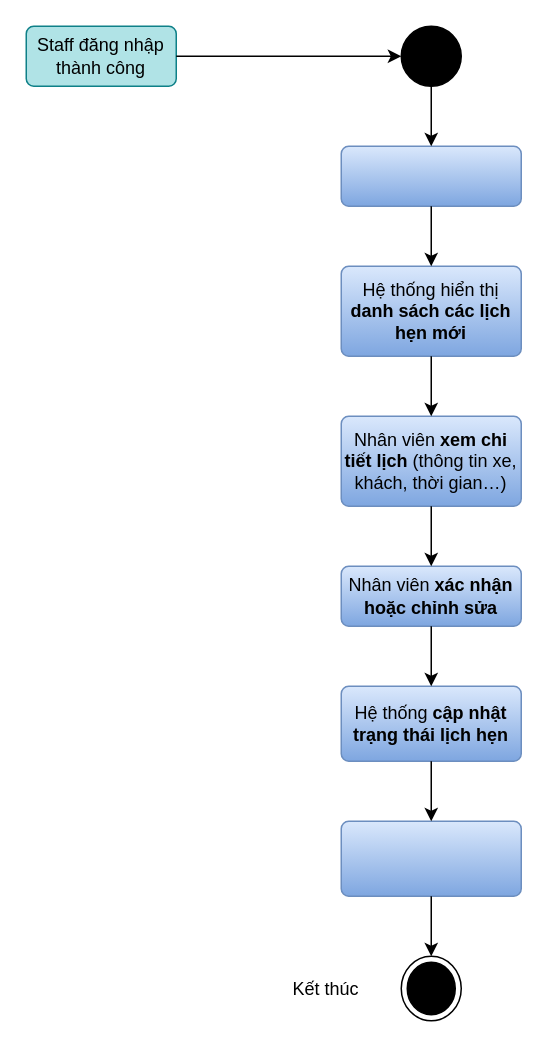
The diagram is 548 pixels wide and 1047 high, and some of its shapes have lost their labels. The box of each missing label's shape, as (x1, y1, x2, y2) in pixels:
Chọn “Quản lý lịch hẹn”: (340, 145, 521, 206)
Hệ thống gửi thông báo cho khách hàng: (340, 820, 521, 896)
